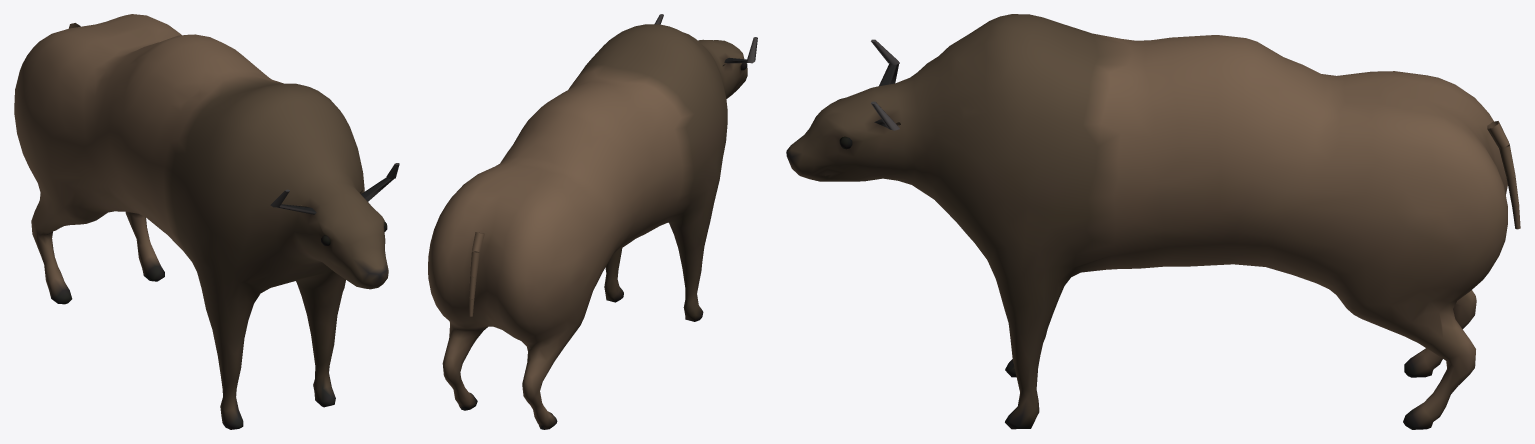
File: wisent.glb
3 renders of one model, left to right at view 1: azimuth 30°, elevation 25°; view 2: azimuth 150°, elevation 25°; view 3: azimuth 270°, elevation 25°, orthographic. The views are drawn at different scales.
Parts seen in each view (by area): view 1: lack; view 2: lack; view 3: lack.
Boxes of the visible parts, x1,y1,x2,y2 form: lack: (14,14,399,429); lack: (428,14,757,429); lack: (786,14,1520,429).
Bounding box in the file's own units: 1.04 × 2.01 × 3.54.
